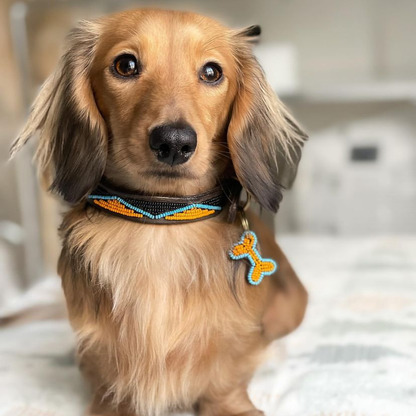dachshund: (37, 11, 324, 395)
